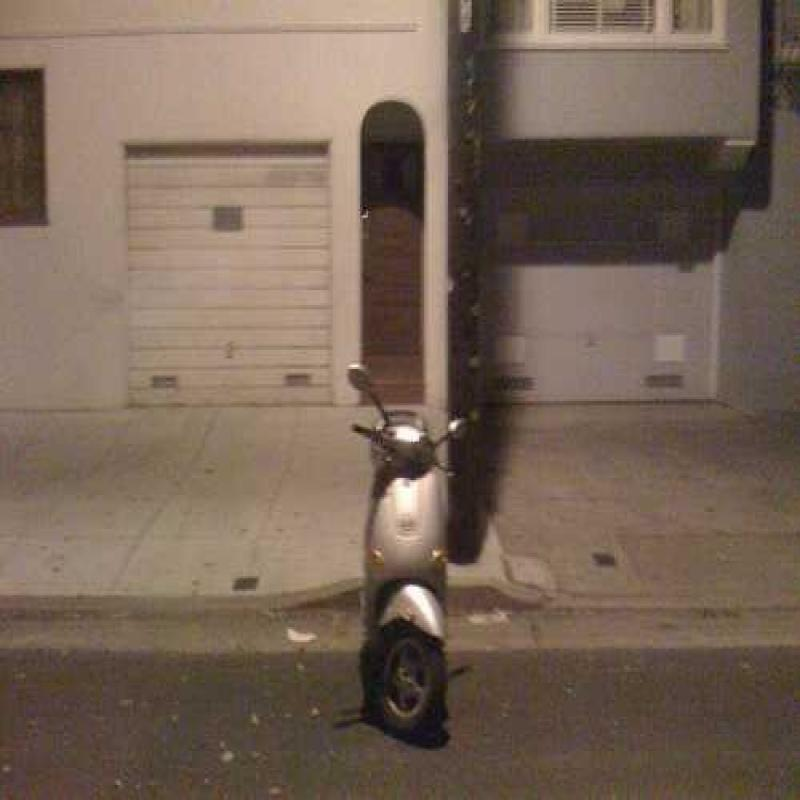bike: (328, 329, 480, 742)
